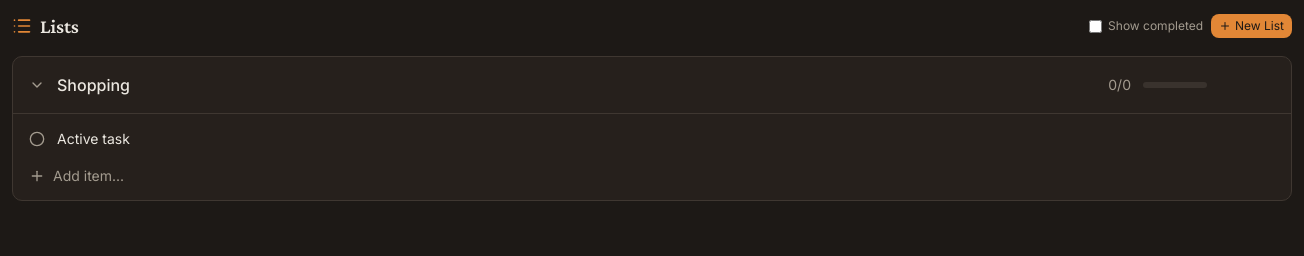
Test: ListsView - Hide Completed Items › shows completed items when toggle is enabled
Click the checkbox labelled "Show completed" at (1096, 26), box [1089,20,1102,32]
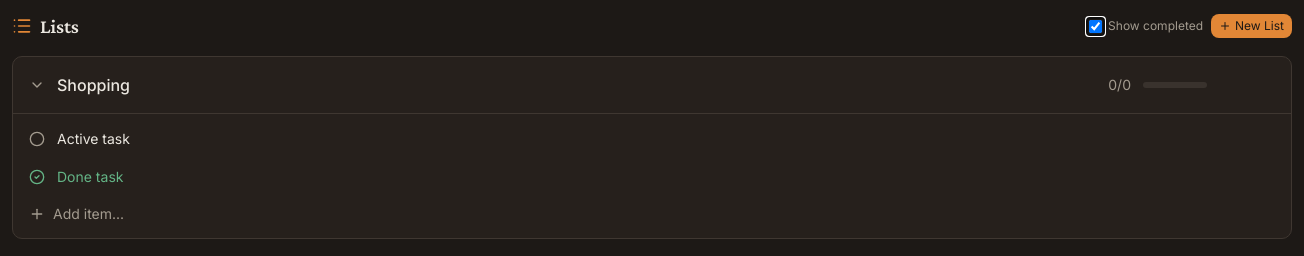
Expected: the text "Active task" is shown, [57,130,130,147]
Expected: the text "Done task" is shown, [57,168,124,185]
